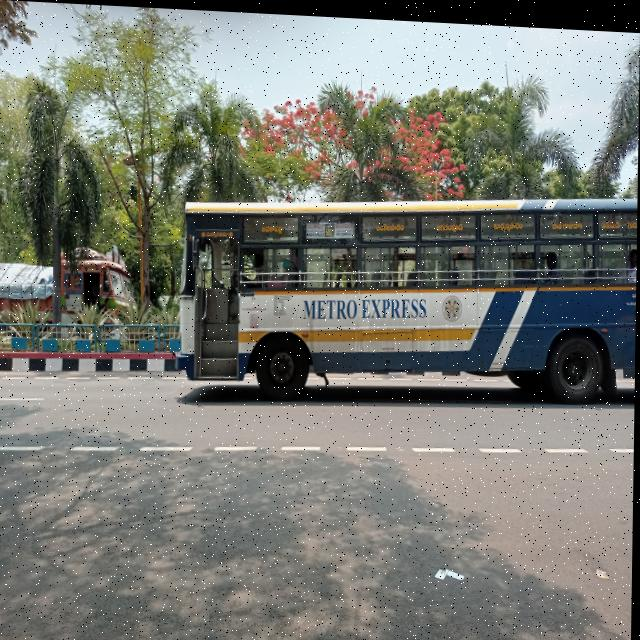bus: (166, 161, 638, 414)
